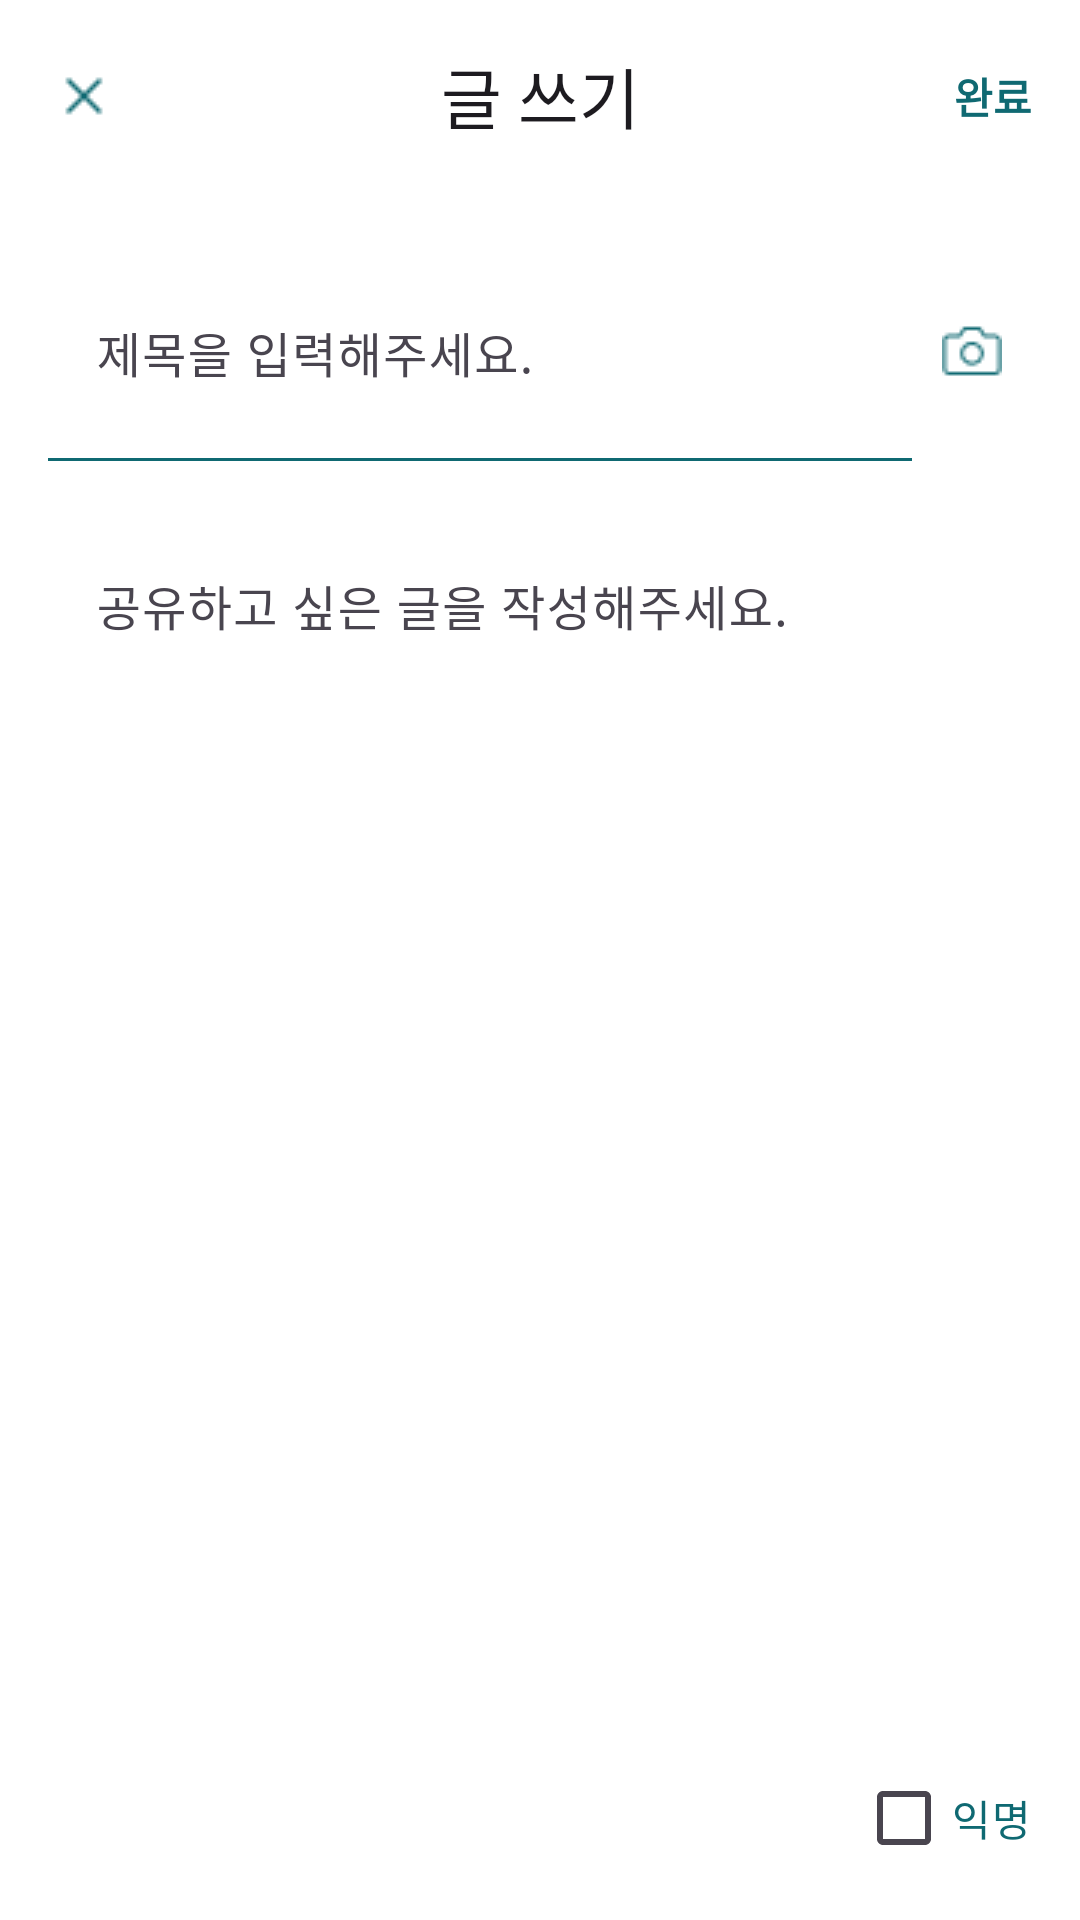

Screen size 1080 x 1920. Icon name, then its box in pixels as (x1, y1, x2, y2):
이미지 첨부: (942, 326, 1002, 376)
